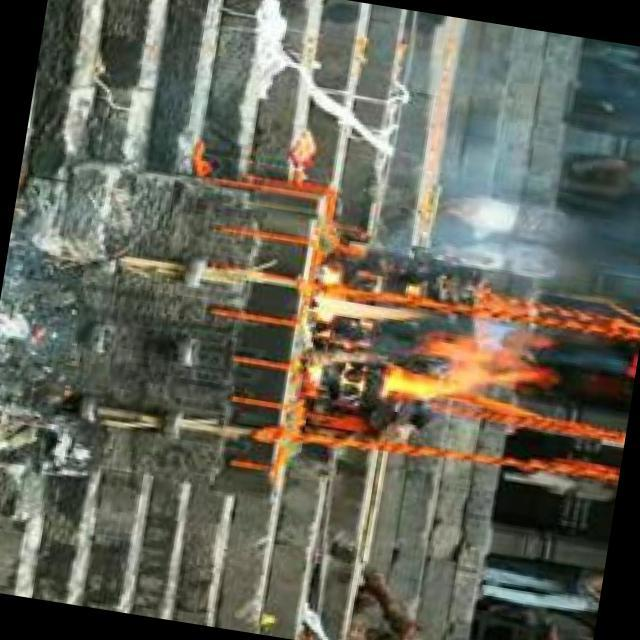Fire: (299, 278, 563, 420)
